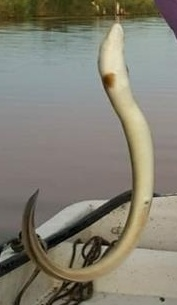Anguilla anguilla: (20, 20, 157, 285)
